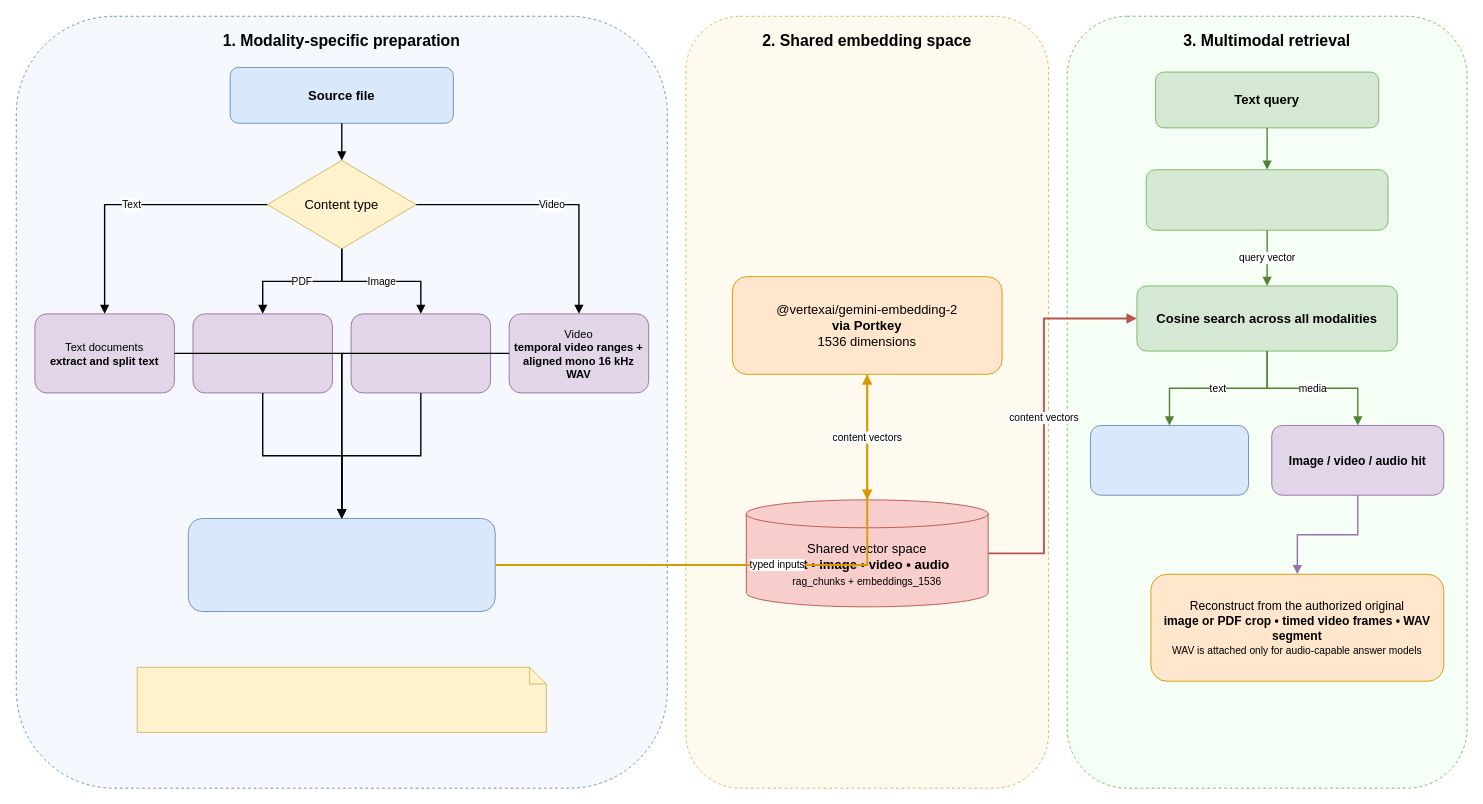
Image size: 1483x804. Some labels were removed from this diagram. Here are the shapes that lost their labels. From the top down, the centre of each, then its label:
point (1266, 199): Embed with the same multimodal model
point (262, 353): Mixed PDF text chunks + rendered figure/table PNGs
point (420, 353): PNG / JPEG validated original image bytes
point (1169, 460): Text hit stored chunk text
point (341, 564): PreparedChunk text • image • video • audio bytes/hash + modality metadata
point (341, 699): Direct media embeddings — no OCR, captioning, or speech-to-text
